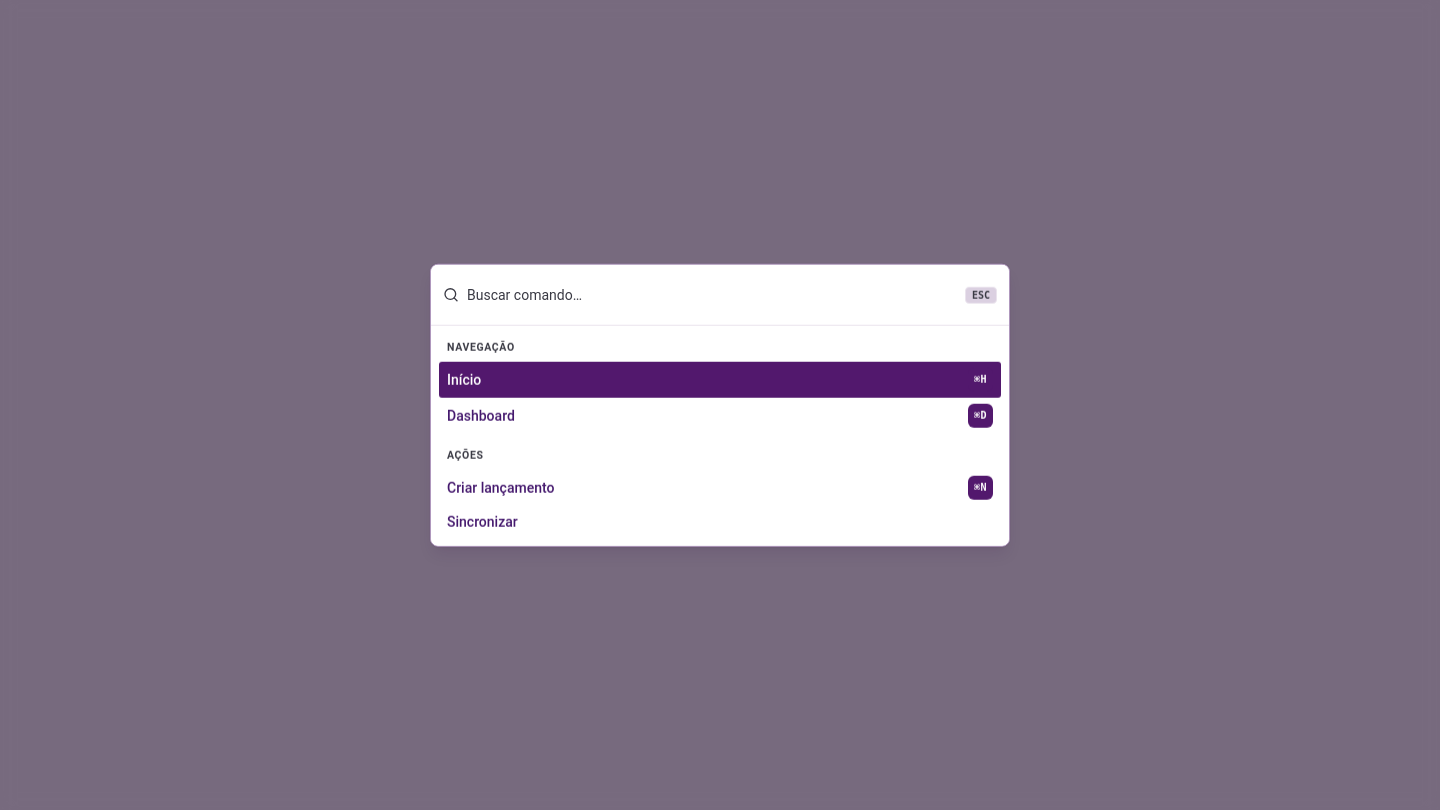
CommandPalette — interaction and selection › AC-7: filter matches by keywords (synonyms)
Step 1. Type "refresh" into the dropdown with placeholder "Buscar comando…" → (712, 295), box [467, 277, 957, 313]
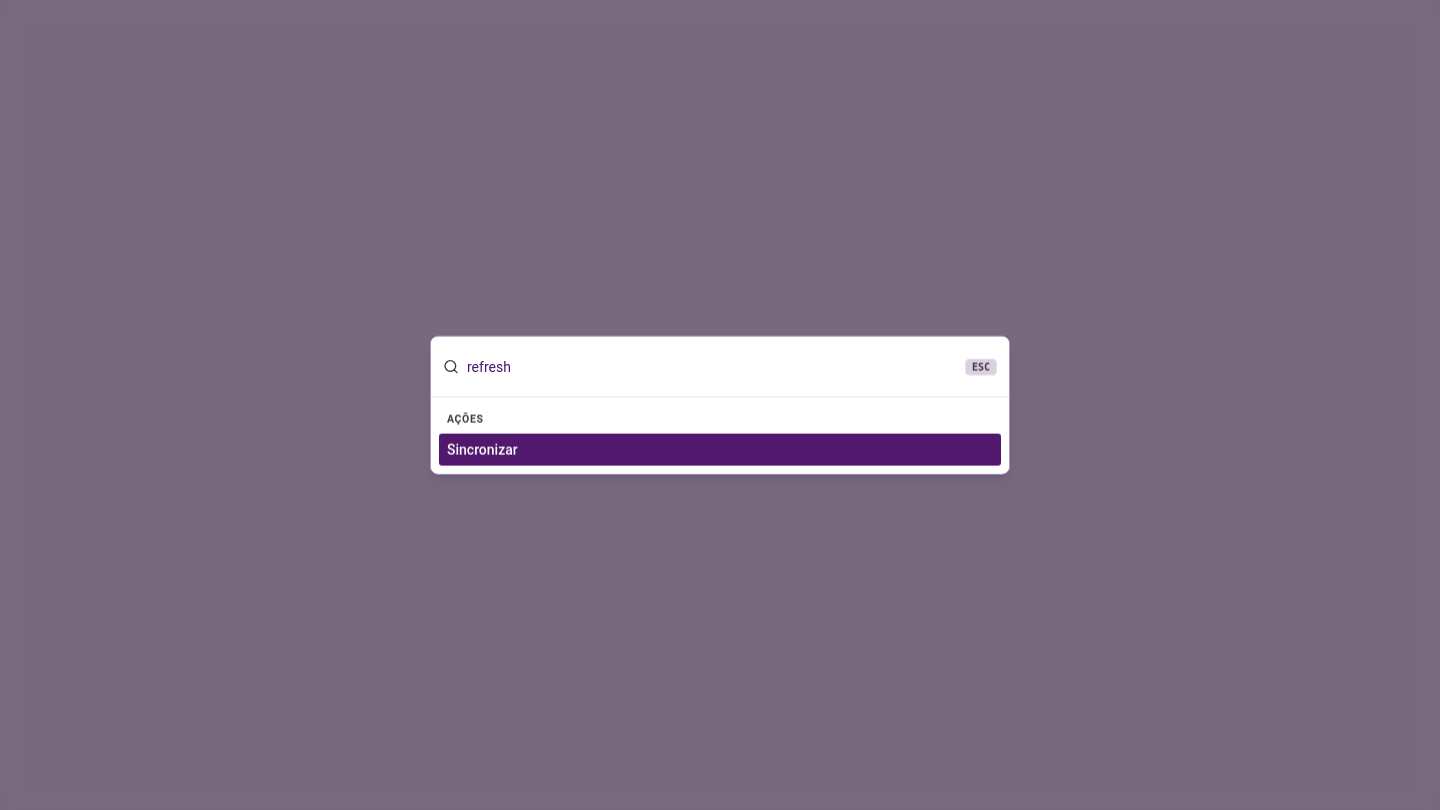
Expected: the text "Sincronizar" is shown, [447, 441, 518, 457]
Expected: the option "Dashboard" is gone
